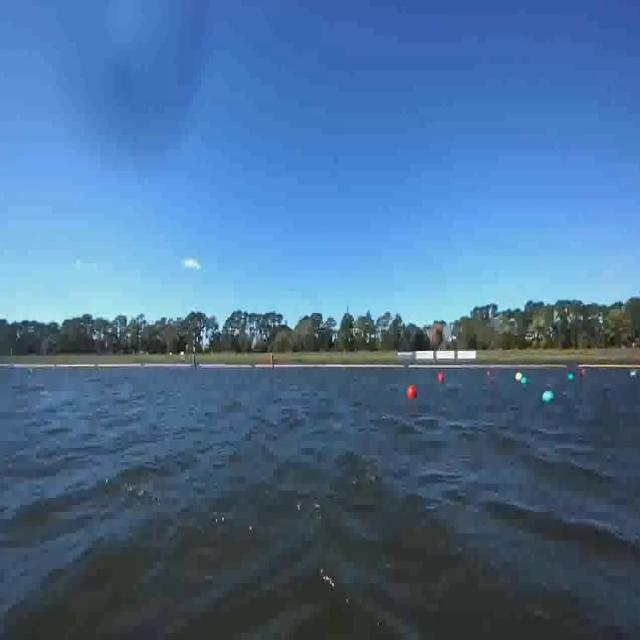green-buoy: (544, 388, 557, 401), (541, 390, 554, 402), (567, 372, 575, 381), (522, 377, 528, 387), (630, 370, 638, 376)
red-buoy: (409, 384, 418, 400), (438, 371, 443, 382)
